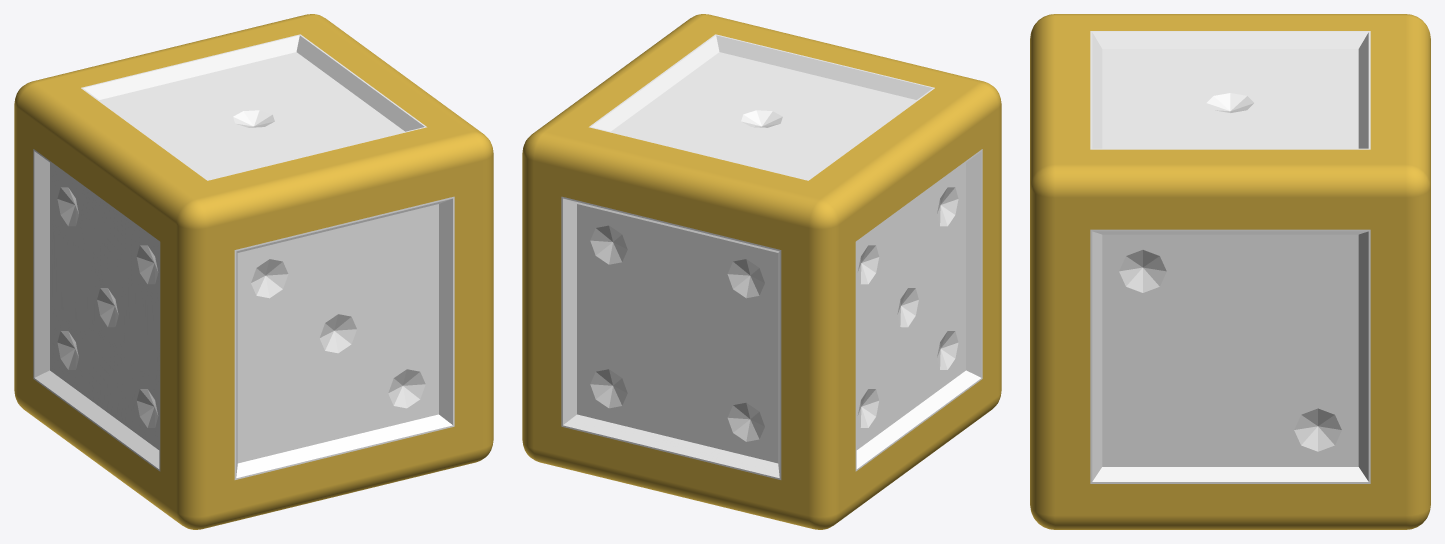
Rendered from brass-d6.glb.
3 views of the same model, side by side, from view 1: azimuth 30°, elevation 25°; view 2: azimuth 150°, elevation 25°; view 3: azimuth 270°, elevation 25° (orthographic). The views are drawn at different scales.
Visible parts, largest first — view 1: brass-d6; view 2: brass-d6; view 3: brass-d6.
Boxes of the visible parts, x1,y1,x2,y2 form: brass-d6: [14, 14, 493, 529]; brass-d6: [522, 14, 1001, 529]; brass-d6: [1030, 14, 1430, 529].
Size of the model in its own units: 0.04 by 0.04 by 0.04.
